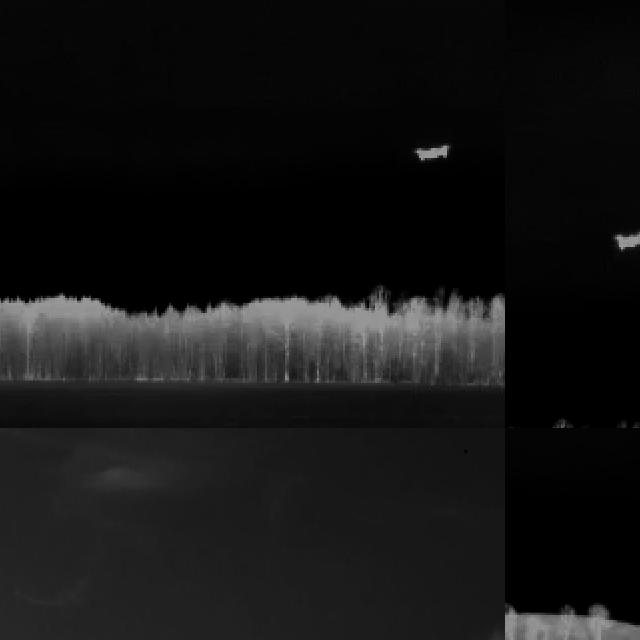1: (404, 136, 464, 172), (603, 224, 640, 259)
drone: (461, 438, 473, 459), (28, 635, 39, 640)
